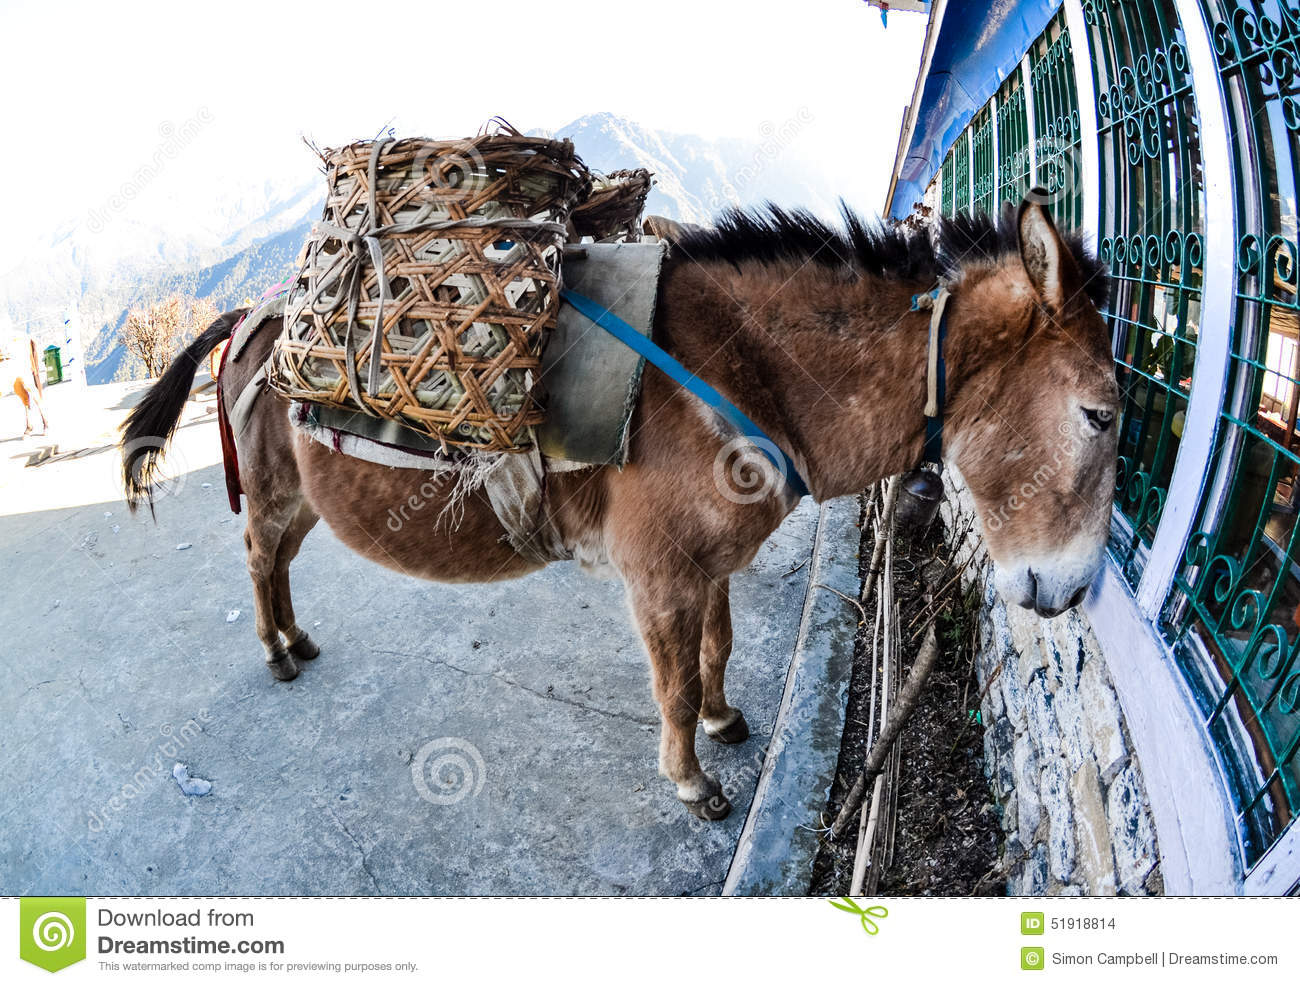equine: (94, 112, 1155, 824)
